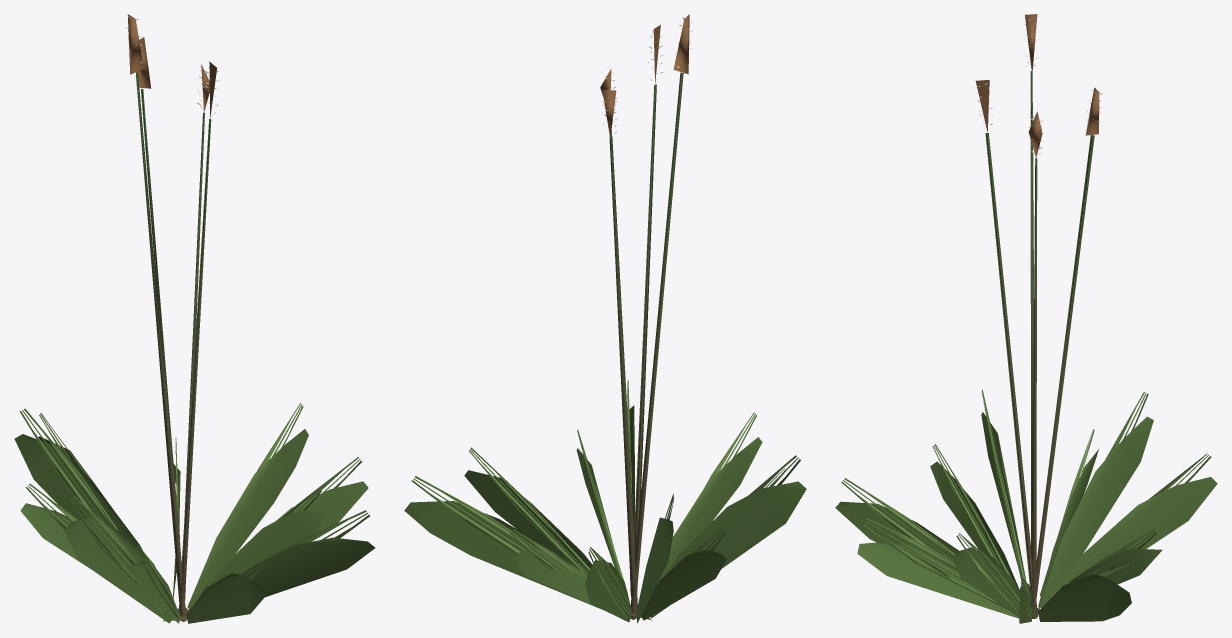
Rendered from RibwortPlantain_lod2.glb.
3 views of the same model, side by side, from view 1: azimuth 30°, elevation 25°; view 2: azimuth 150°, elevation 25°; view 3: azimuth 270°, elevation 25° (orthographic). The views are drawn at different scales.
Visible parts, largest first — view 1: Plant_LOD2; view 2: Plant_LOD2; view 3: Plant_LOD2.
Part boxes in pixels (left/top/right/bottom): Plant_LOD2: left=14, top=14, right=375, bottom=623; Plant_LOD2: left=404, top=14, right=806, bottom=623; Plant_LOD2: left=835, top=14, right=1217, bottom=623.
Size of the model in its own units: 0.2692 by 0.4888 by 0.2924.
